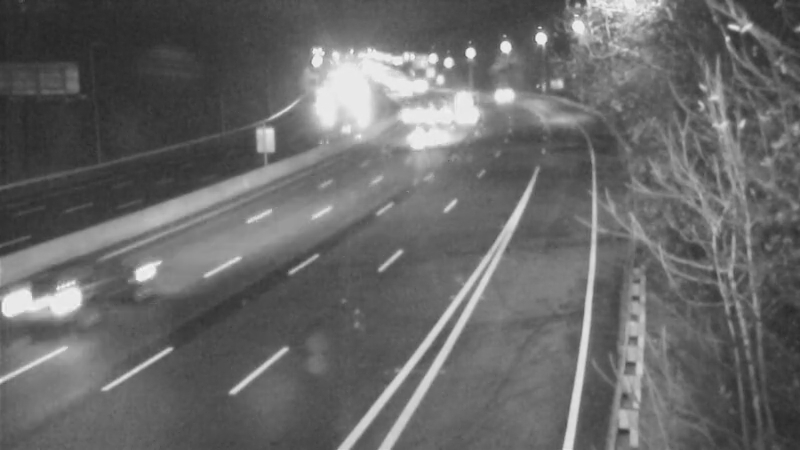vehicle: (9, 258, 89, 338), (431, 72, 481, 122), (475, 69, 525, 119), (442, 90, 492, 140), (411, 87, 461, 137), (385, 91, 435, 141), (404, 120, 454, 170)
